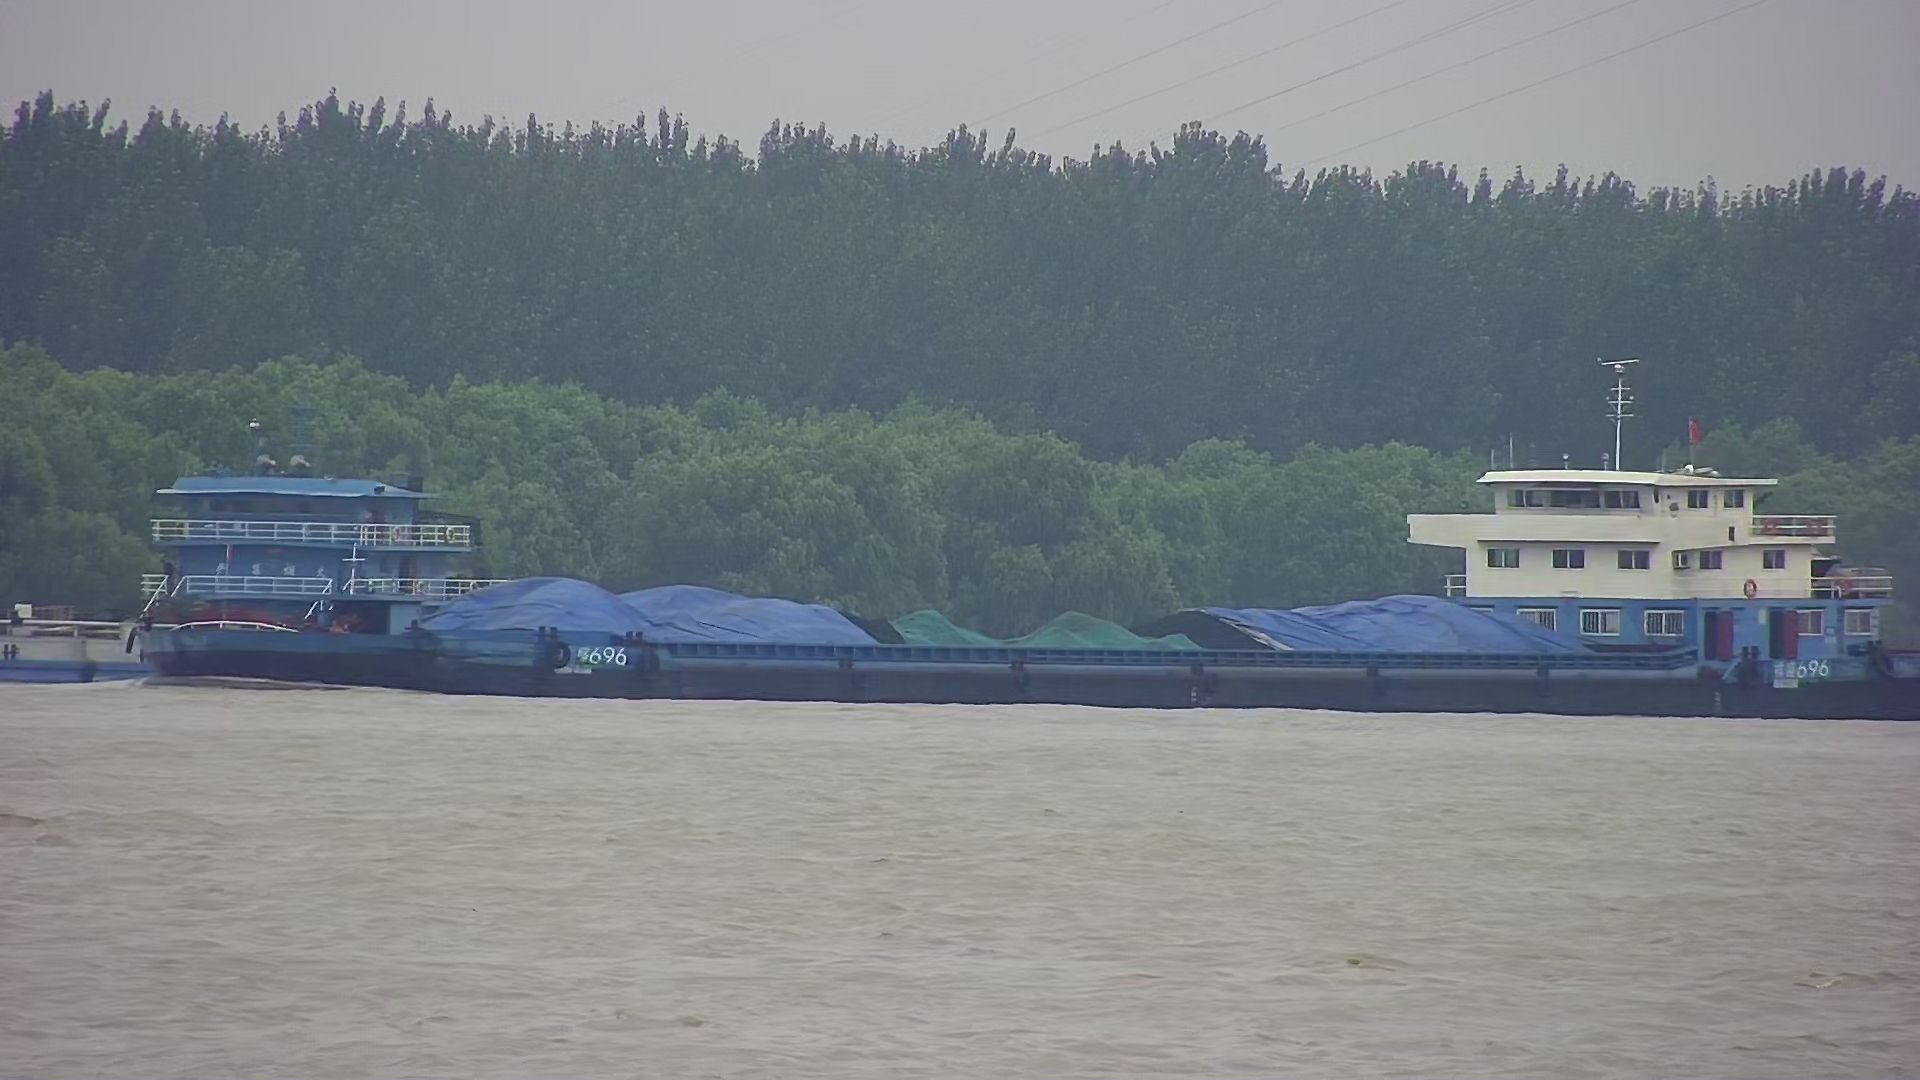ship: (137, 360, 1920, 719), (5, 483, 520, 686)
